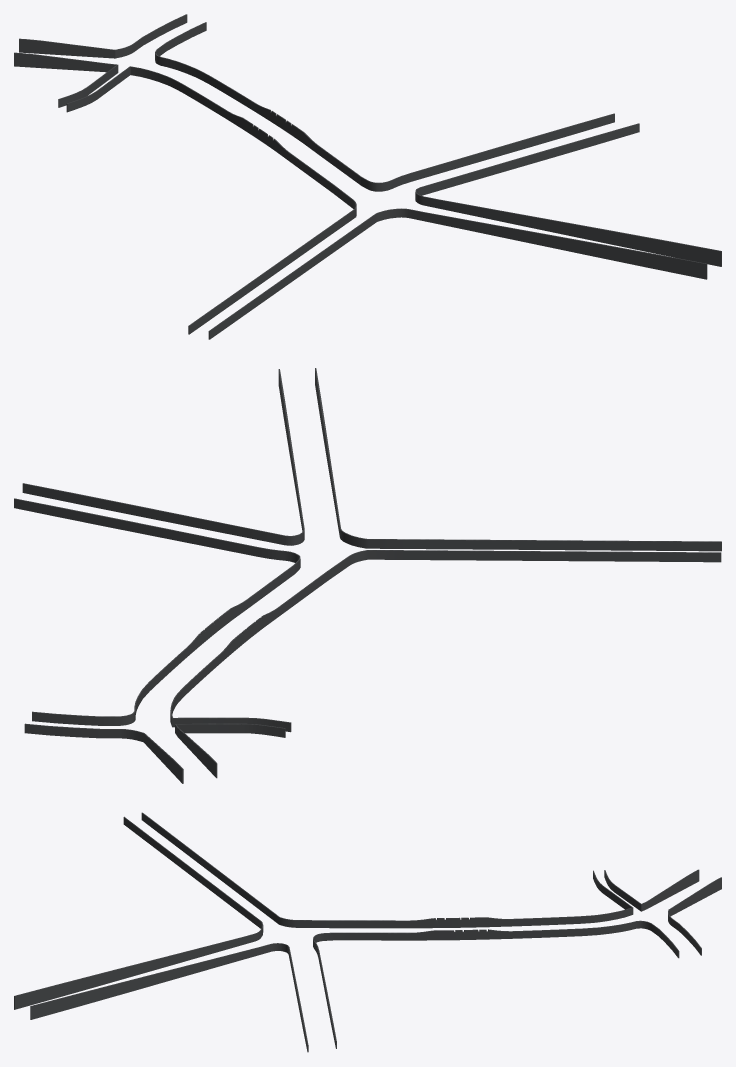
File: Road_Trim.obj
3 renders of one model, top to bottom at view 1: azimuth 30°, elevation 25°; view 2: azimuth 150°, elevation 25°; view 3: azimuth 270°, elevation 25°, orthographic. The views are drawn at different scales.
Parts seen in each view (by area): view 1: Road_Trim; view 2: Road_Trim; view 3: Road_Trim.
Boxes of the visible parts, x1,y1,x2,y2 form: Road_Trim: (14,14,721,339); Road_Trim: (14,368,721,783); Road_Trim: (14,812,721,1052).
Size of the model in its own units: 120 by 3.31 by 154.
Materials: 1 (1 with a texture image).
